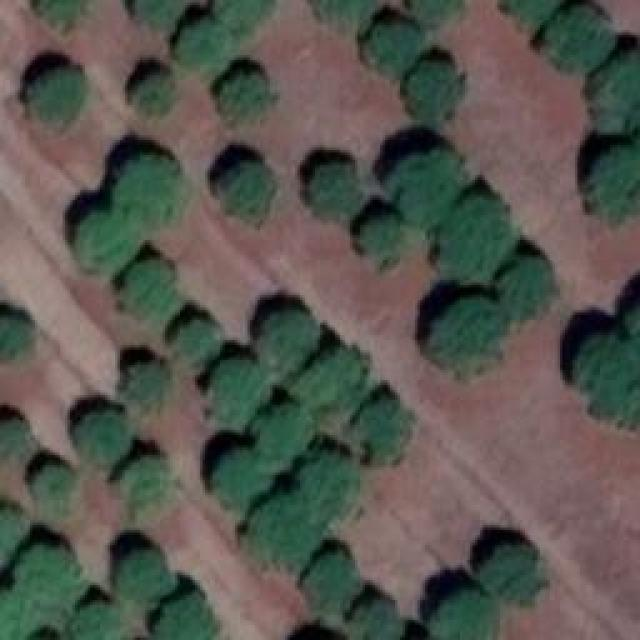Tree: (438, 200, 513, 278), (250, 498, 323, 568), (433, 300, 508, 368), (580, 340, 640, 420), (118, 157, 183, 225), (295, 353, 365, 416), (395, 155, 455, 223), (20, 545, 80, 608), (548, 8, 611, 68), (210, 360, 268, 425), (80, 212, 140, 270), (258, 315, 318, 373), (300, 460, 358, 518), (592, 148, 640, 218), (220, 163, 273, 223), (485, 545, 538, 605), (595, 58, 640, 128), (433, 592, 498, 640), (405, 62, 458, 120), (258, 405, 311, 463), (360, 400, 408, 463), (125, 260, 178, 315), (503, 260, 556, 315), (215, 450, 265, 508), (305, 555, 358, 608), (30, 68, 78, 121), (368, 25, 421, 73), (158, 595, 213, 640), (80, 410, 128, 460), (180, 20, 230, 68), (120, 553, 170, 598), (220, 75, 268, 120), (128, 458, 171, 508), (313, 165, 356, 215), (360, 217, 403, 265), (77, 602, 125, 640), (355, 602, 403, 640), (0, 590, 35, 640), (35, 465, 73, 508), (178, 320, 221, 358), (317, 0, 375, 28), (40, 0, 90, 25), (220, 0, 270, 25), (0, 420, 32, 457), (138, 78, 171, 113), (505, 0, 560, 20), (133, 365, 166, 398), (0, 510, 28, 548), (0, 318, 30, 353), (135, 0, 180, 22), (412, 0, 460, 20)
